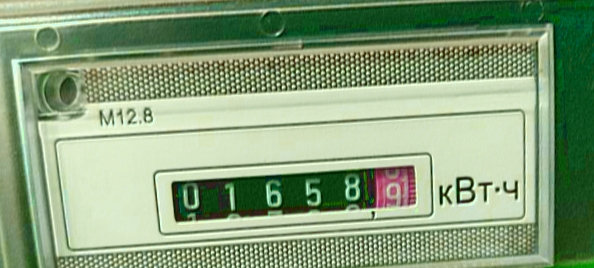0: (178, 179, 202, 212)
1: (223, 180, 238, 212)
5: (302, 175, 324, 209)
6: (262, 177, 285, 209)
8: (341, 171, 362, 204)
9: (382, 180, 402, 207)
screen: (144, 143, 440, 241)
